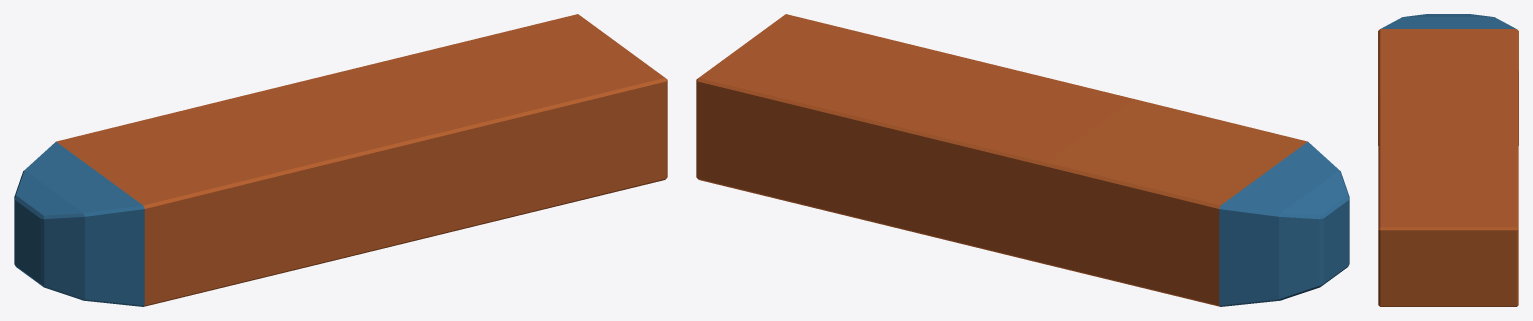
Rendered from SM_SubmarineWhitBox.fbx.
The picture shows the model from 3 angles, left to right: view 1: azimuth 30°, elevation 25°; view 2: azimuth 150°, elevation 25°; view 3: azimuth 270°, elevation 25°; orthographic projection. The views are drawn at different scales.
Parts seen in each view (by area): view 1: Ship; view 2: Ship; view 3: Ship.
Part boxes in pixels (x1,y1,x2,y2): Ship: (14,14,667,306); Ship: (696,14,1349,306); Ship: (1378,14,1518,306).
Bounding box in the file's own units: 2033 × 358 × 533.
